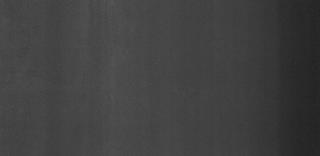silk spot: (88, 9, 136, 37)
